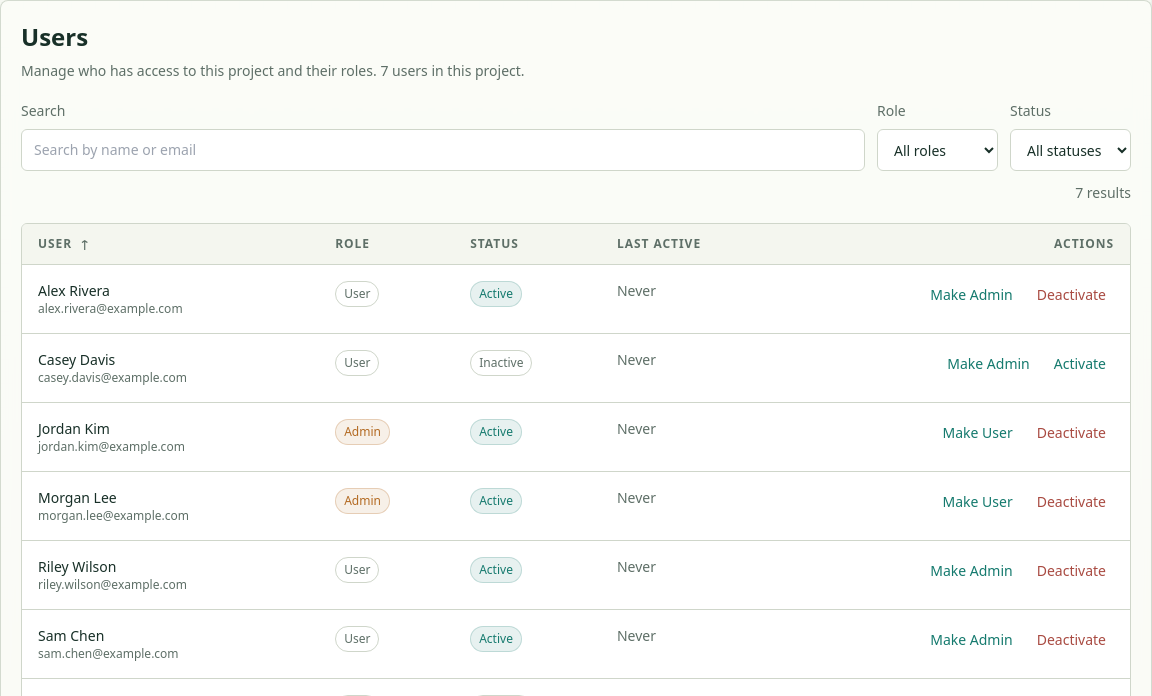
it: AdminUsersPage — role change (save states) › cancel closes dialog without mutation
The width and height of the screenshot is (1152, 696).
Click the button "Make Admin" in the row of "Alex Rivera".
click(971, 295)  # box 922,281 -> 1021,309
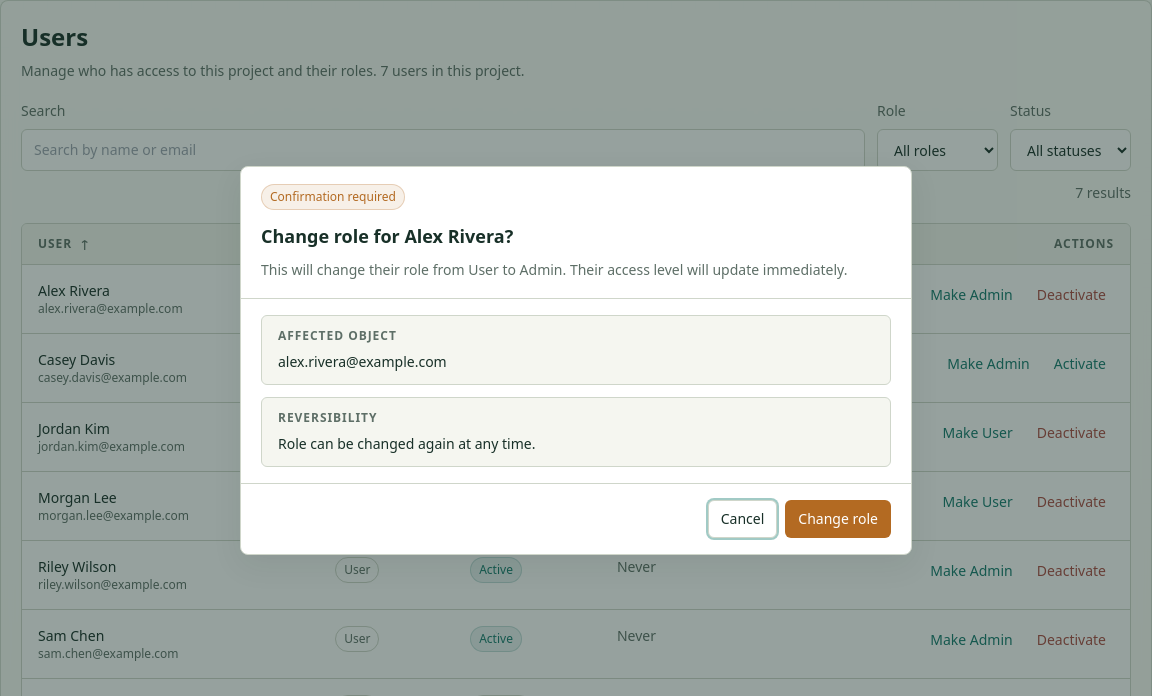
Click the button "Cancel".
click(743, 518)  # box 708,500 -> 777,538
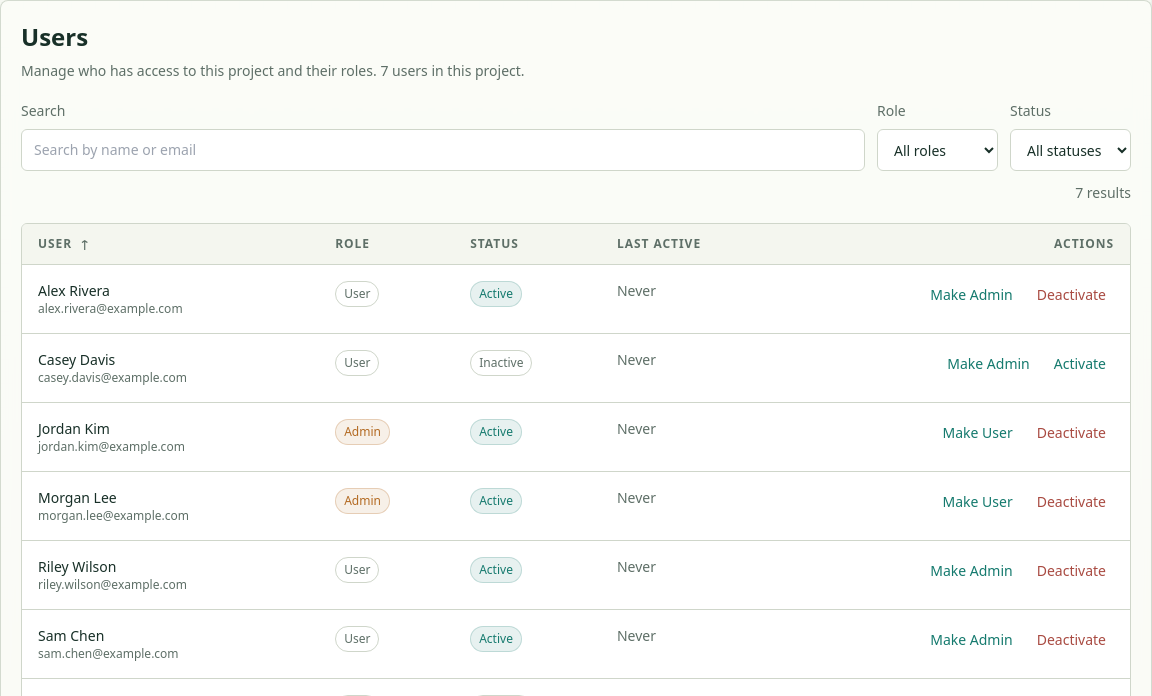
Now the heading "Change role for" is gone
Now the text "Admin" is shown 2 times, box 335,419 -> 390,445; 335,488 -> 390,514
